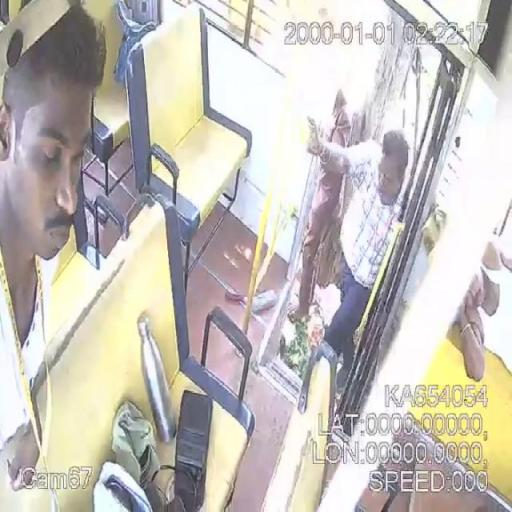persona: (0, 2, 108, 510), (294, 117, 412, 389)
